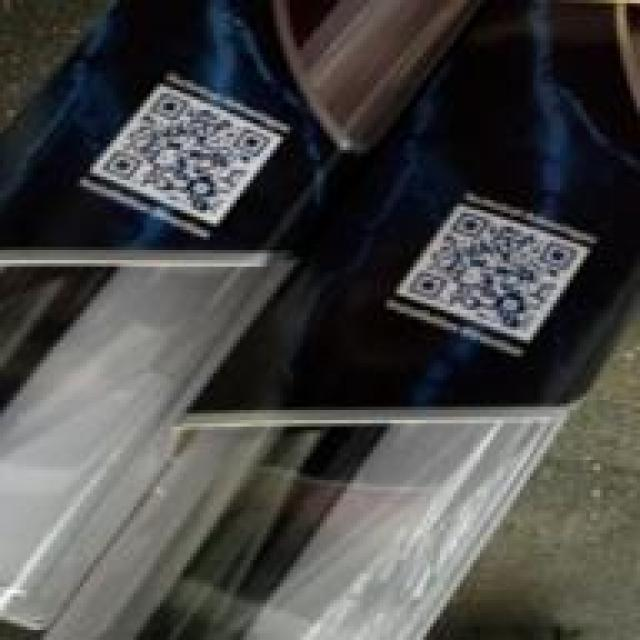qr_code: (409, 211, 576, 333), (103, 94, 270, 216)
